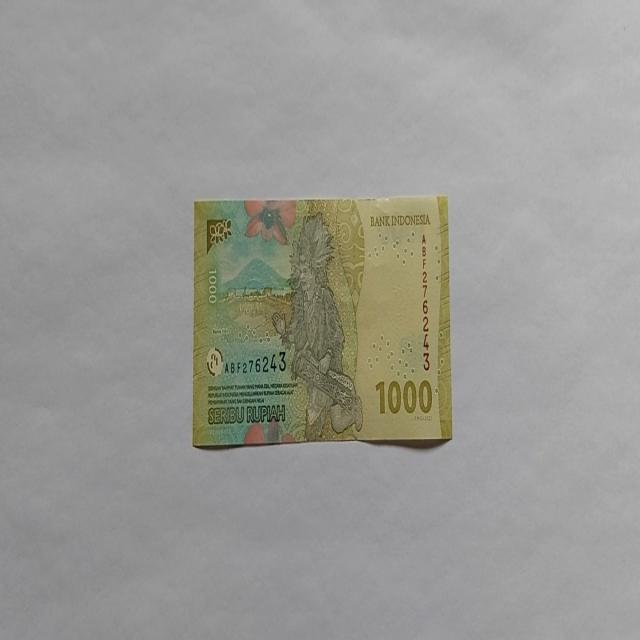seribu rupiah kertas: (192, 194, 452, 449)
